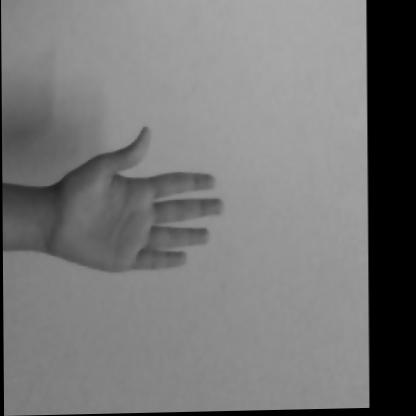palm: (31, 118, 232, 294)
